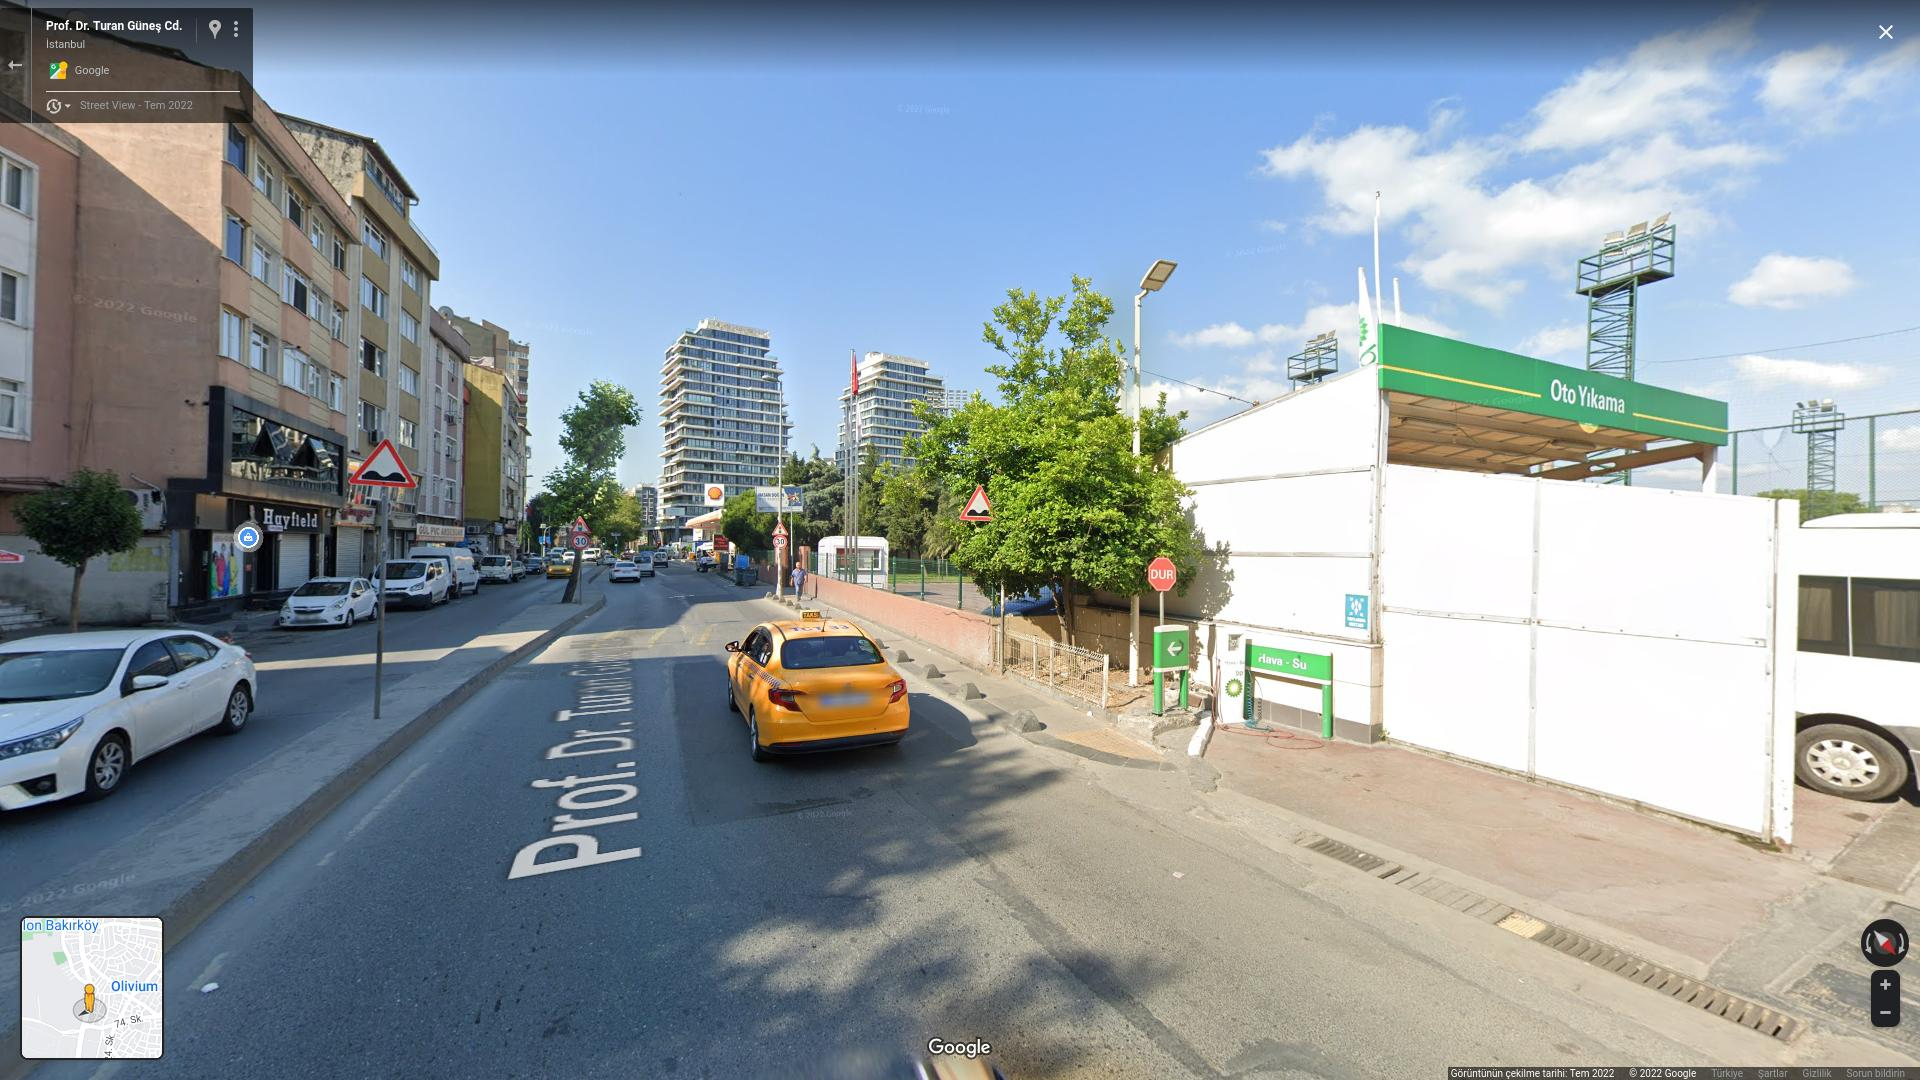stop: (1146, 556, 1180, 592)
